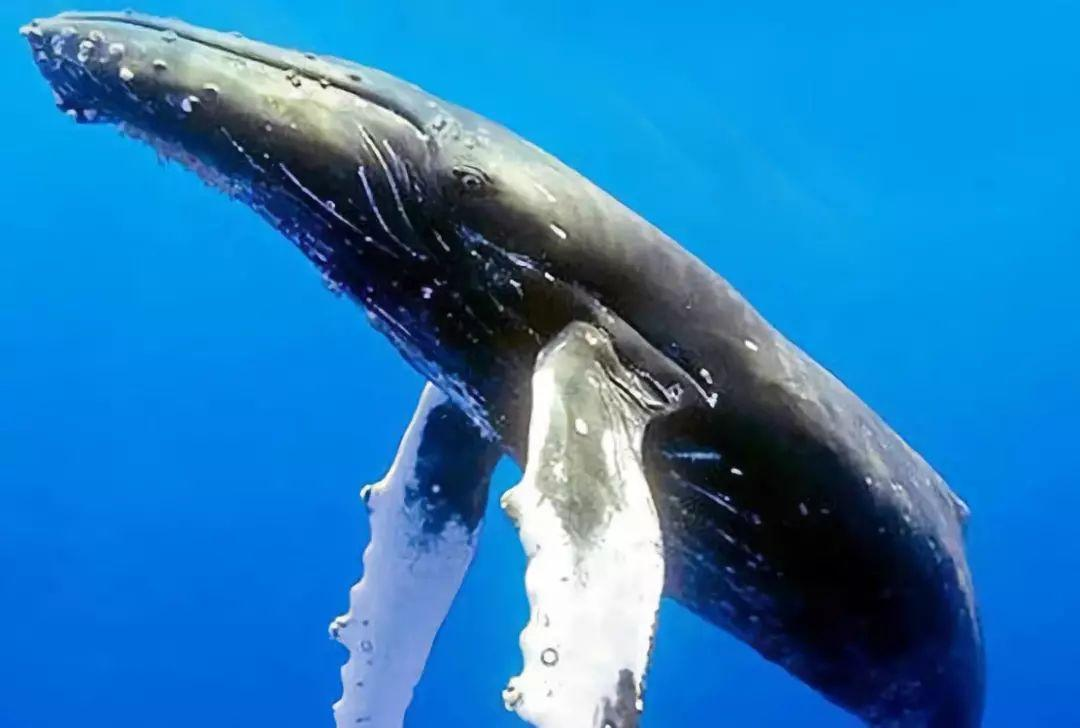fish: (18, 4, 993, 728)
